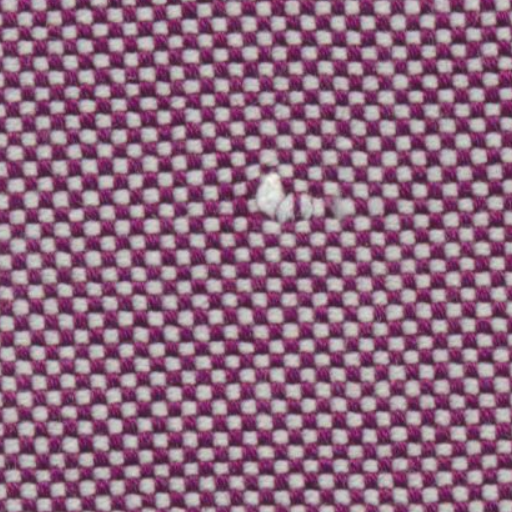MianQiu: (240, 132, 345, 262)
